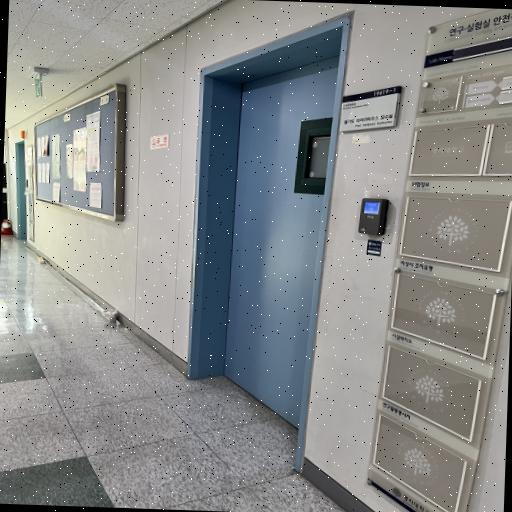door: (184, 12, 352, 474)
